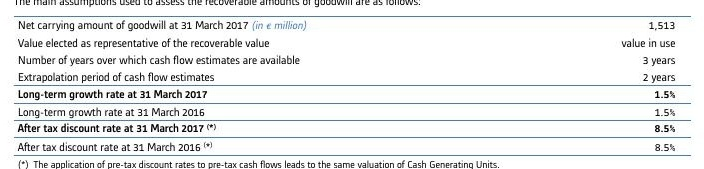table: (0, 0, 704, 169)
